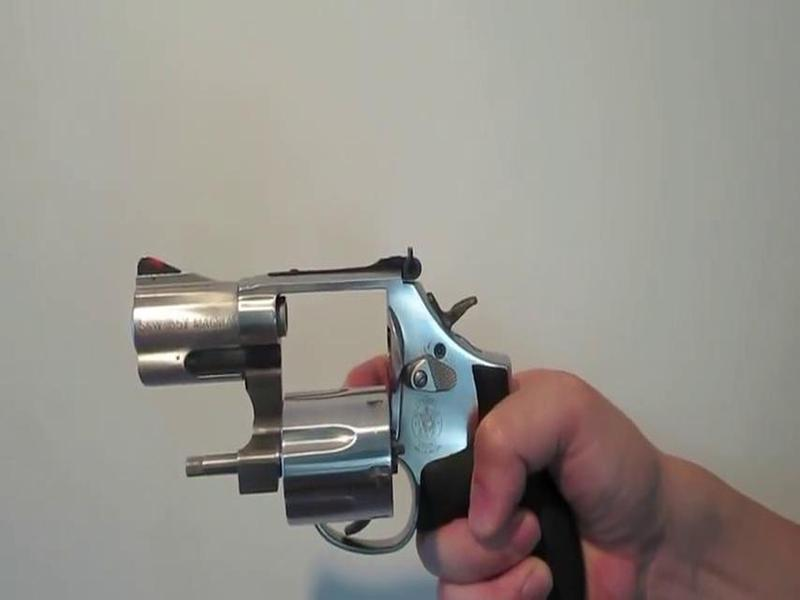Revolver: (120, 208, 573, 600)
